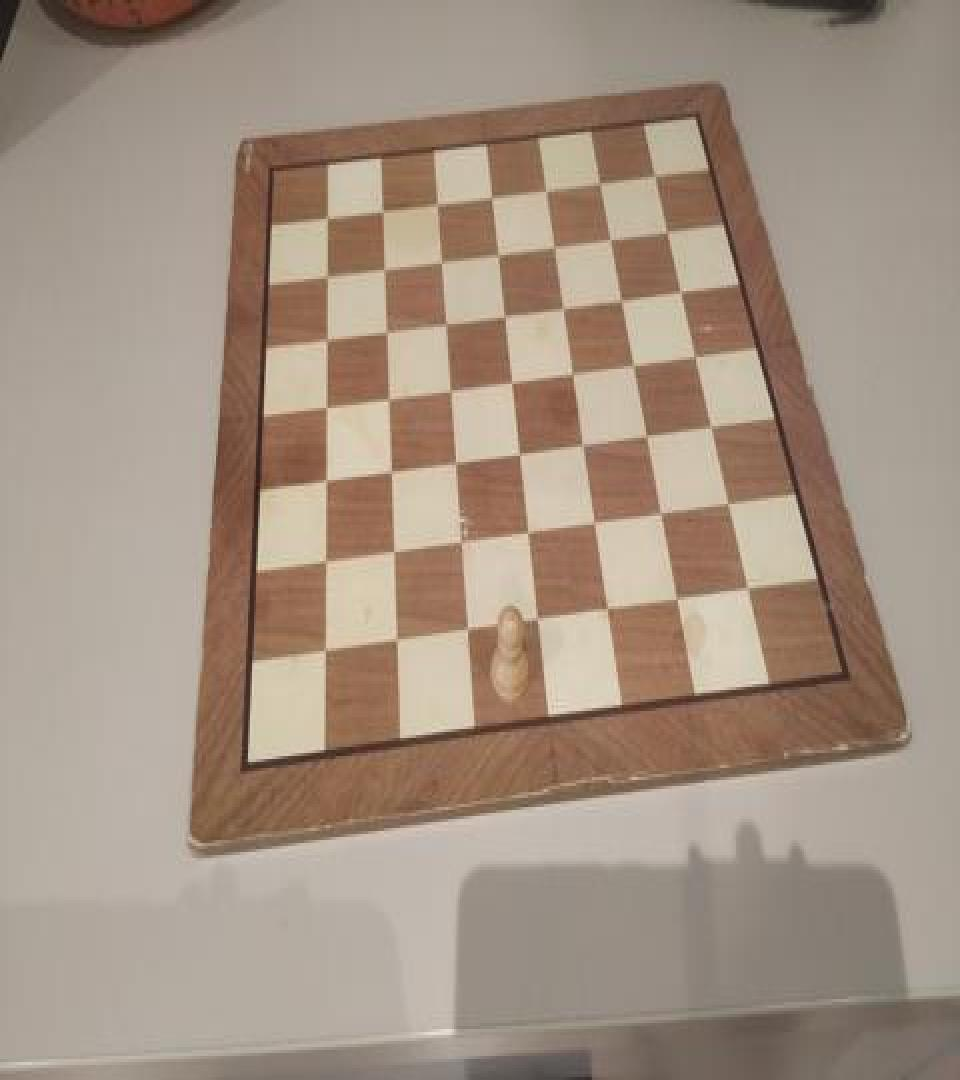xcorner: (591, 508, 609, 536), (317, 466, 335, 494), (579, 430, 597, 458), (706, 412, 724, 440), (380, 382, 398, 410), (317, 322, 335, 350), (498, 298, 516, 326), (433, 244, 451, 272), (594, 166, 612, 194), (648, 160, 666, 188), (390, 627, 408, 654), (462, 617, 480, 644), (533, 606, 551, 633), (674, 585, 692, 612), (744, 574, 762, 601), (386, 538, 404, 565), (455, 528, 473, 555), (523, 519, 541, 546), (658, 499, 676, 526), (724, 489, 742, 516), (383, 456, 401, 483), (449, 447, 467, 474), (514, 438, 532, 465), (506, 366, 524, 393), (568, 357, 586, 384), (629, 350, 647, 377), (690, 342, 708, 369), (378, 315, 396, 342), (438, 306, 456, 333), (557, 291, 575, 318), (616, 284, 634, 311), (675, 276, 693, 303), (317, 258, 335, 285), (375, 252, 393, 279), (491, 237, 509, 264), (605, 223, 623, 250), (661, 216, 679, 243), (317, 201, 335, 228), (373, 194, 391, 221), (429, 188, 447, 215), (484, 180, 502, 207), (539, 174, 557, 201), (317, 638, 335, 664), (604, 596, 622, 622), (317, 548, 335, 574), (643, 422, 661, 448), (317, 392, 335, 418), (443, 374, 461, 400), (548, 230, 566, 256)
